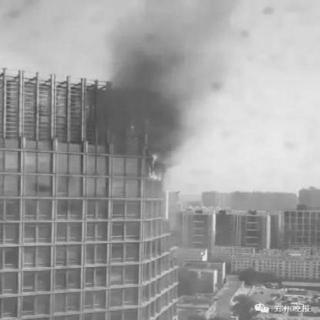Smoke: (102, 10, 206, 144)
